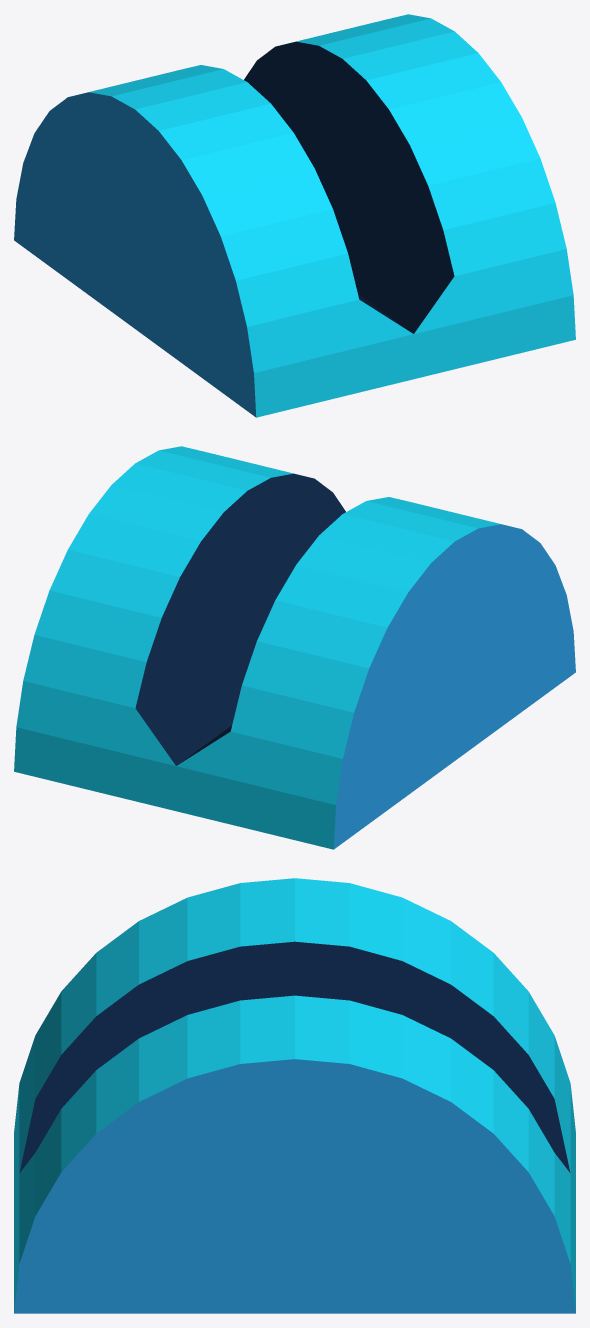
Rendered from LeverBase1.1.obj.
The picture shows the model from 3 angles, top to bottom: view 1: azimuth 30°, elevation 25°; view 2: azimuth 150°, elevation 25°; view 3: azimuth 270°, elevation 25°; orthographic projection. The views are drawn at different scales.
Visible parts, largest first — view 1: LeverBase_Cylinder; view 2: LeverBase_Cylinder; view 3: LeverBase_Cylinder.
Boxes of the visible parts, <box> form: LeverBase_Cylinder: <box>14,14,575,417</box>; LeverBase_Cylinder: <box>14,446,575,849</box>; LeverBase_Cylinder: <box>14,878,575,1313</box>.
Bounding box in the file's own units: 1.52 × 1 × 2.
